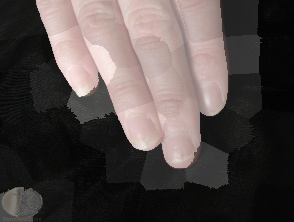Nail_psoriasis: (163, 142, 198, 168), (129, 131, 161, 152)
